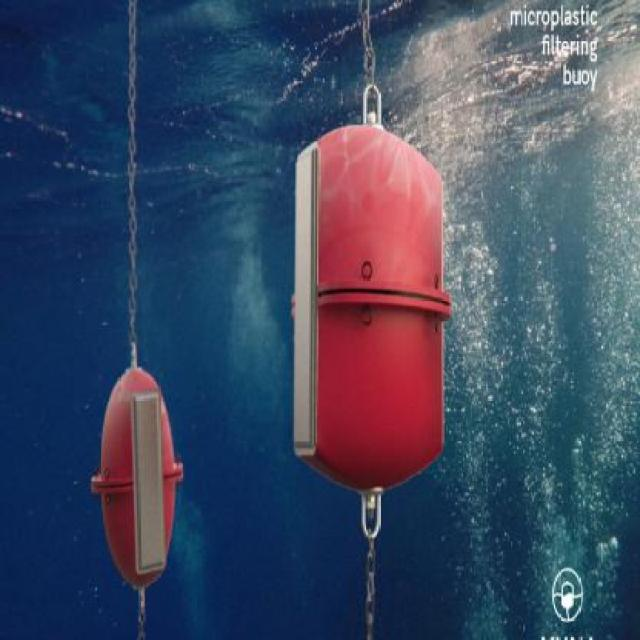a: (269, 1, 456, 492), (80, 349, 202, 591), (96, 11, 189, 262), (348, 524, 416, 626), (346, 462, 397, 554)
